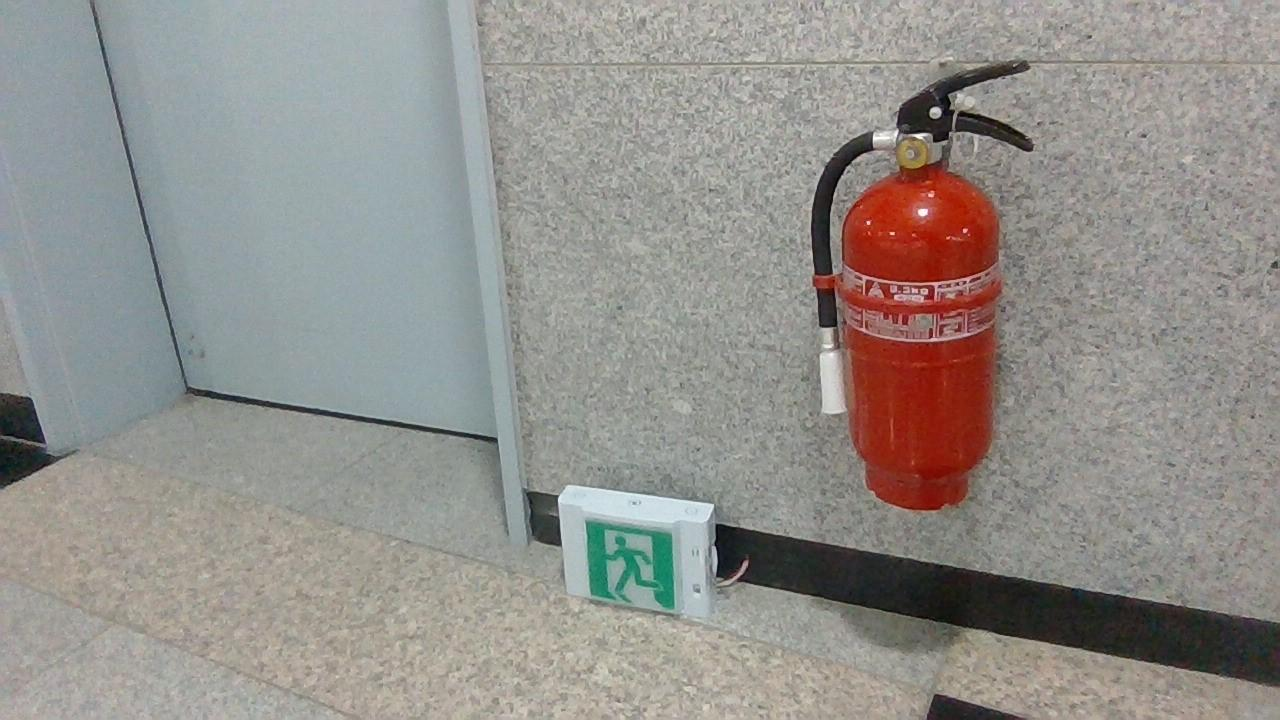emergency_exit: (555, 483, 717, 621)
